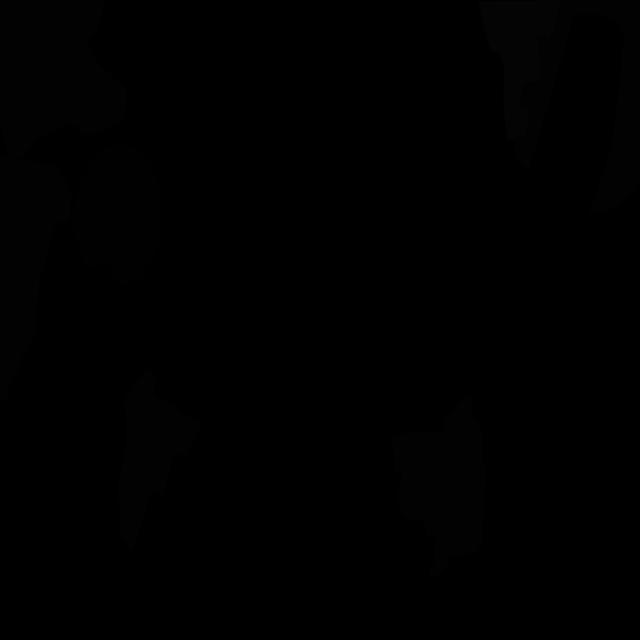cardboard: (514, 0, 640, 214), (0, 156, 72, 401), (392, 395, 486, 579), (116, 366, 202, 550)
rigid_plastic: (72, 145, 162, 287)
soft_plastic: (478, 0, 561, 141)
